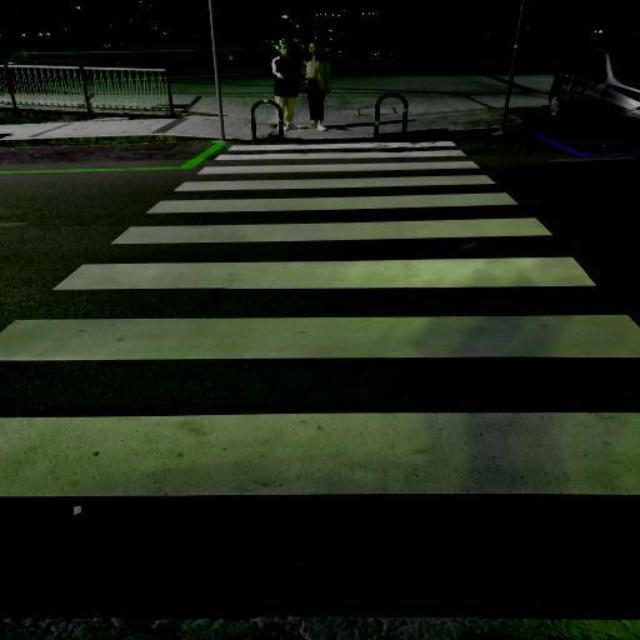sidewalk: (0, 126, 640, 640)
